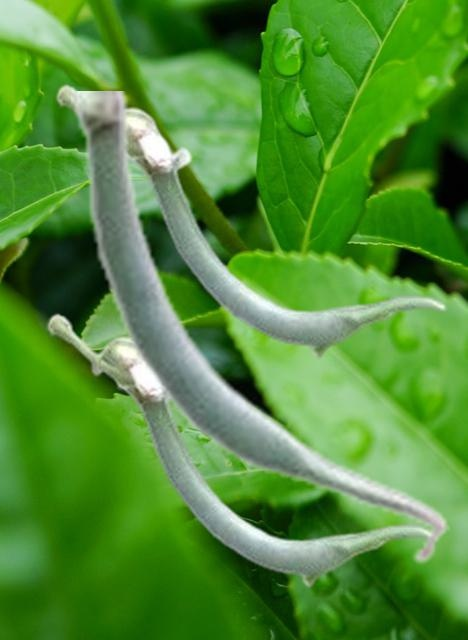french_bean: (71, 91, 448, 566), (55, 83, 446, 358), (46, 312, 437, 587)
